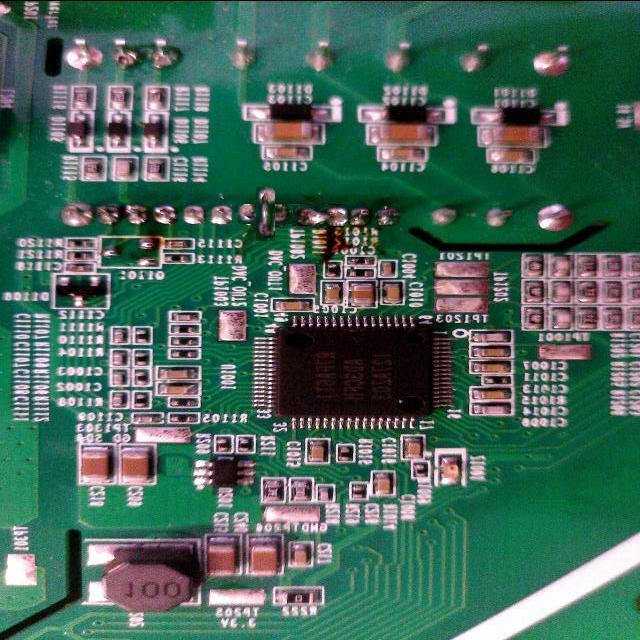Short_circuit: (247, 195, 283, 232), (292, 204, 348, 227)
